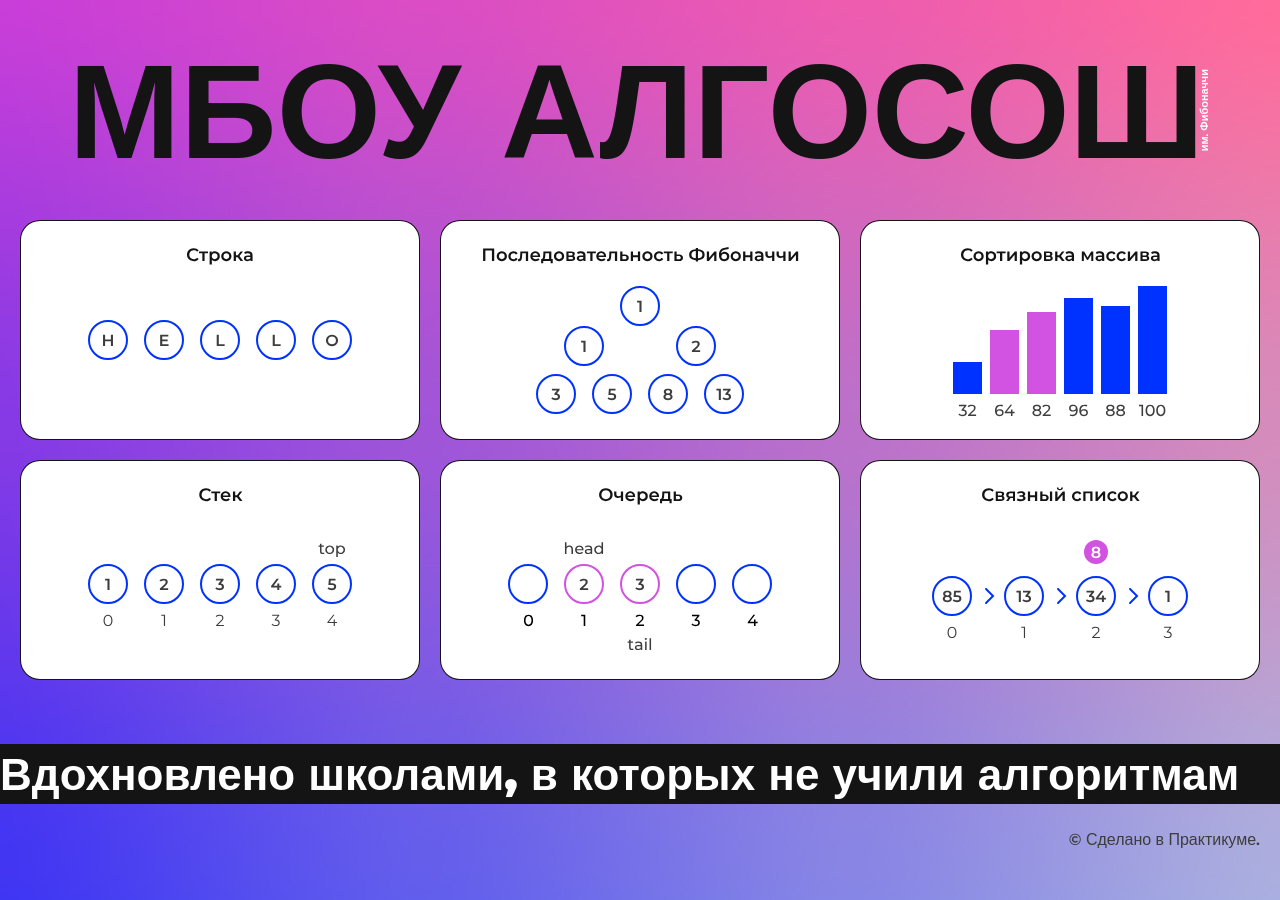
Scenario: Test String algorithm › string algorithm with even number of letters is correct
Click the 1st link at (220, 330), box [20, 220, 420, 440]
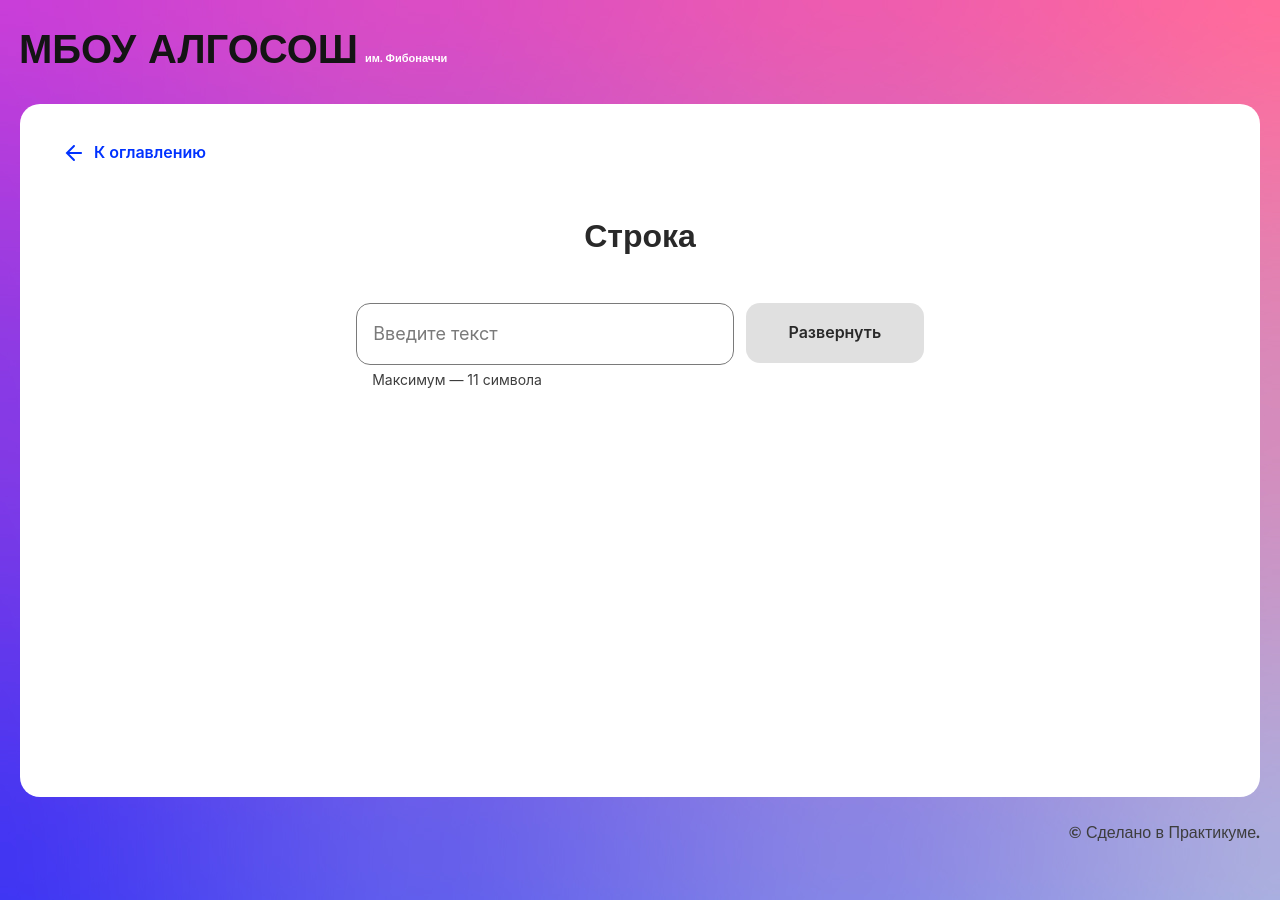
Type "well" into the field with test id "input" at (545, 334), box [356, 302, 734, 364]
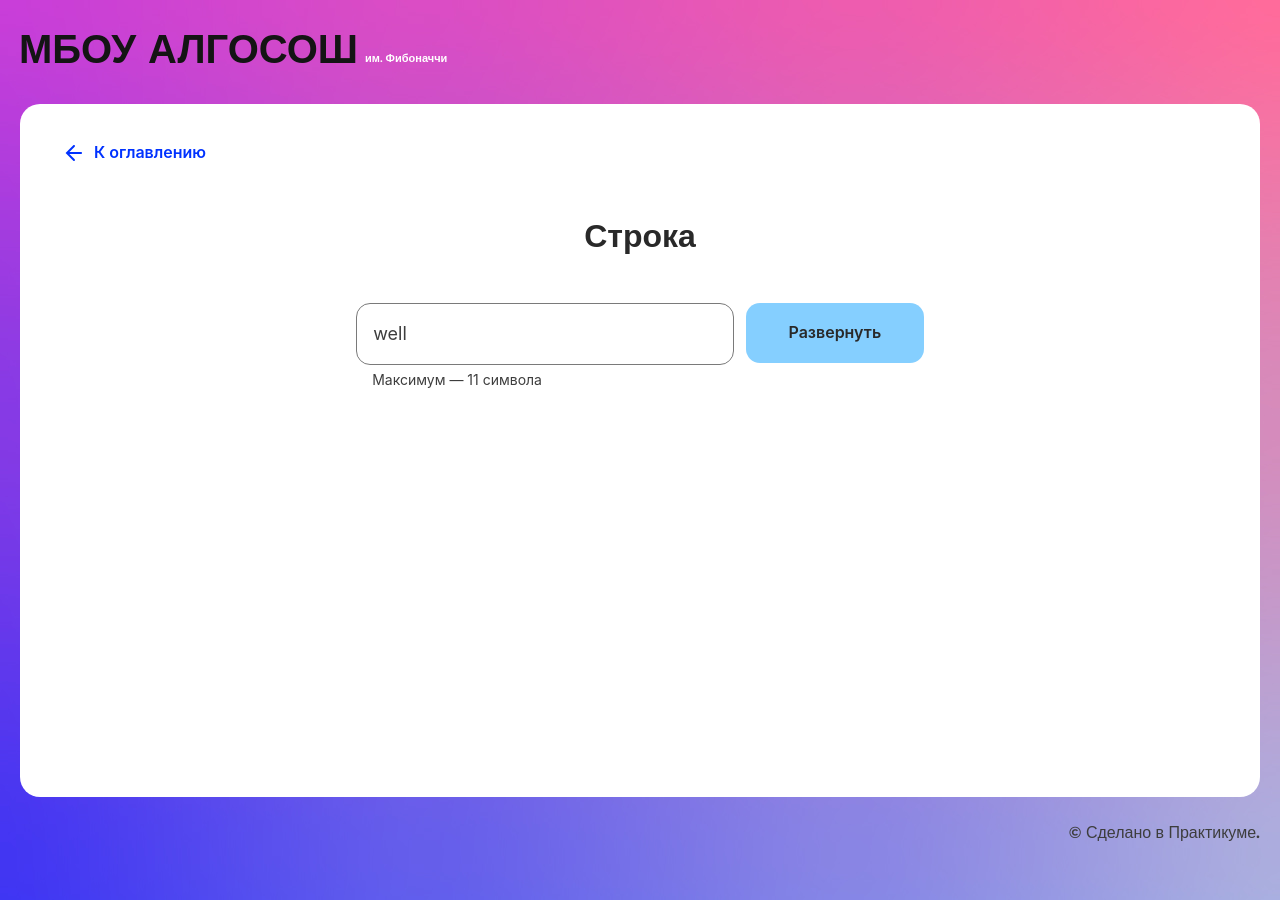
Click the button with test id "button" at (835, 332), box [746, 302, 924, 362]
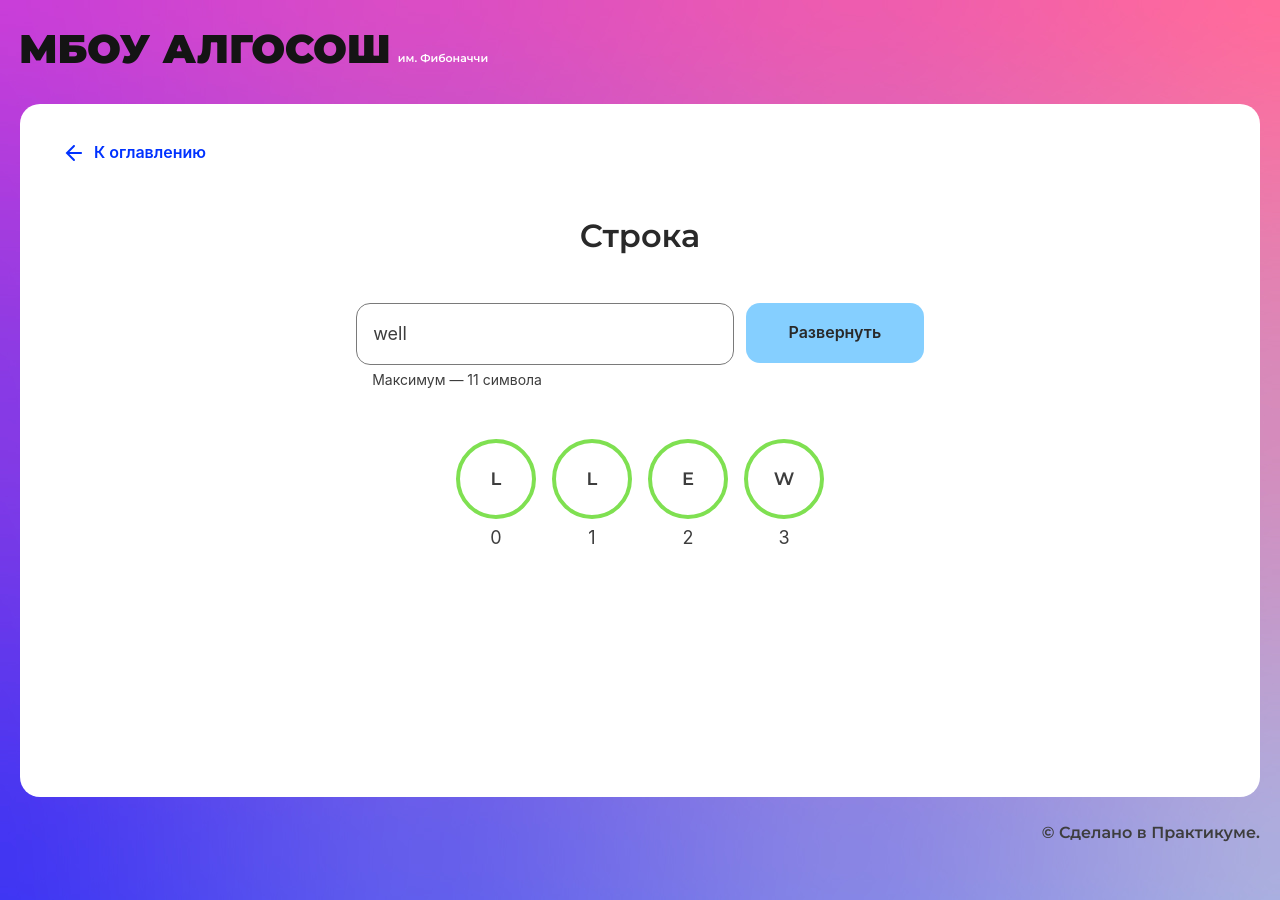
Expected: the 1st element with test id "circleColoured" reads "l", [491, 468, 501, 490]
Expected: the 2nd element with test id "circleColoured" reads "l", [587, 468, 597, 490]
Expected: the element with test id "circleColoured" reads "e", [682, 468, 694, 490]
